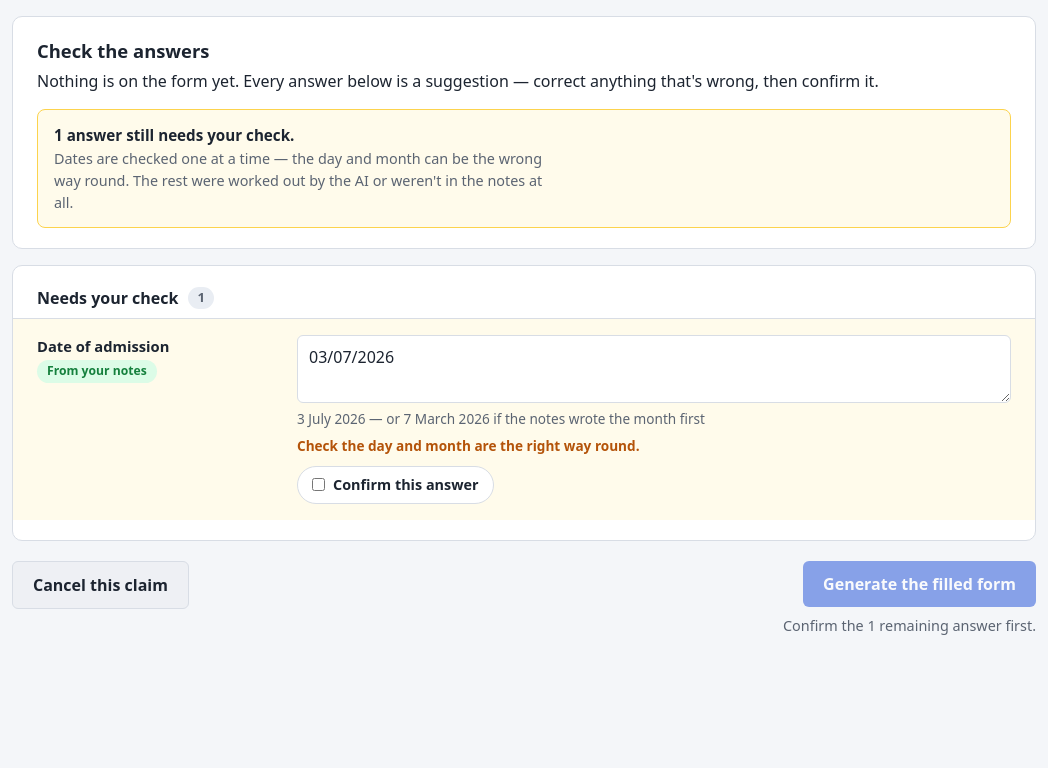
Test: a date answer › releases the form once the doctor confirms it
The image size is (1048, 768).
What coordinates should you click on to do the following:
click the checkbox labelled "Confirm this answer"
I would click on:
 (318, 485)
Its box is [312, 478, 325, 491].
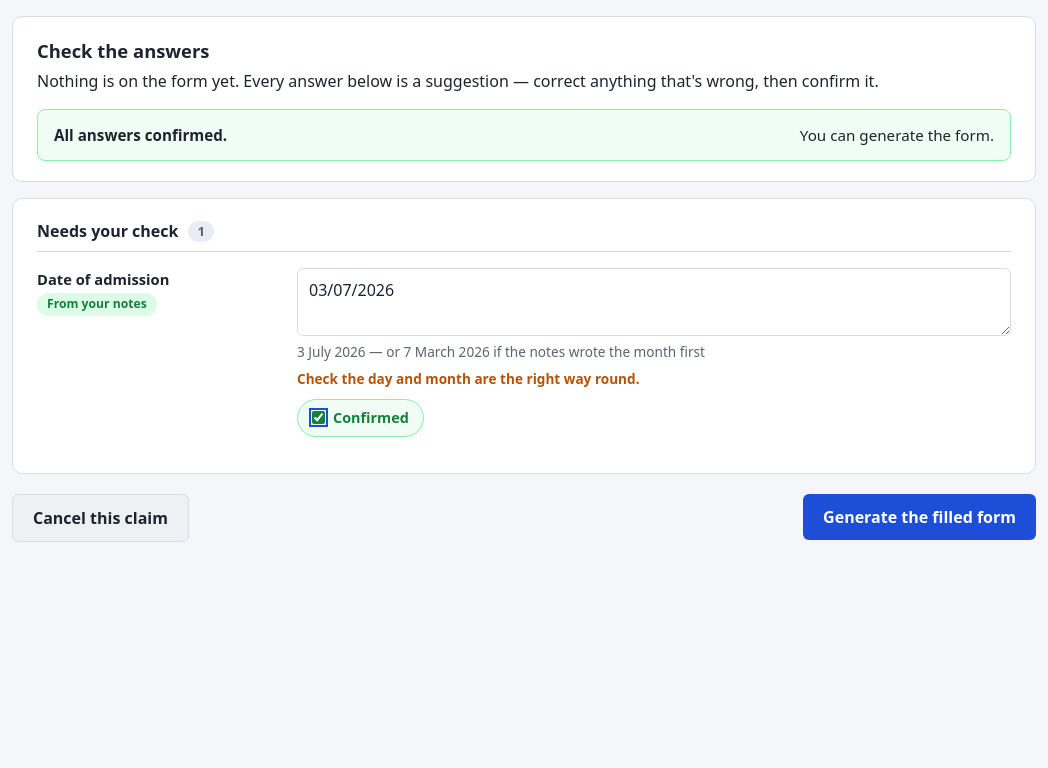
Expected: the button "Generate the filled form" is enabled, [803, 494, 1036, 540]
